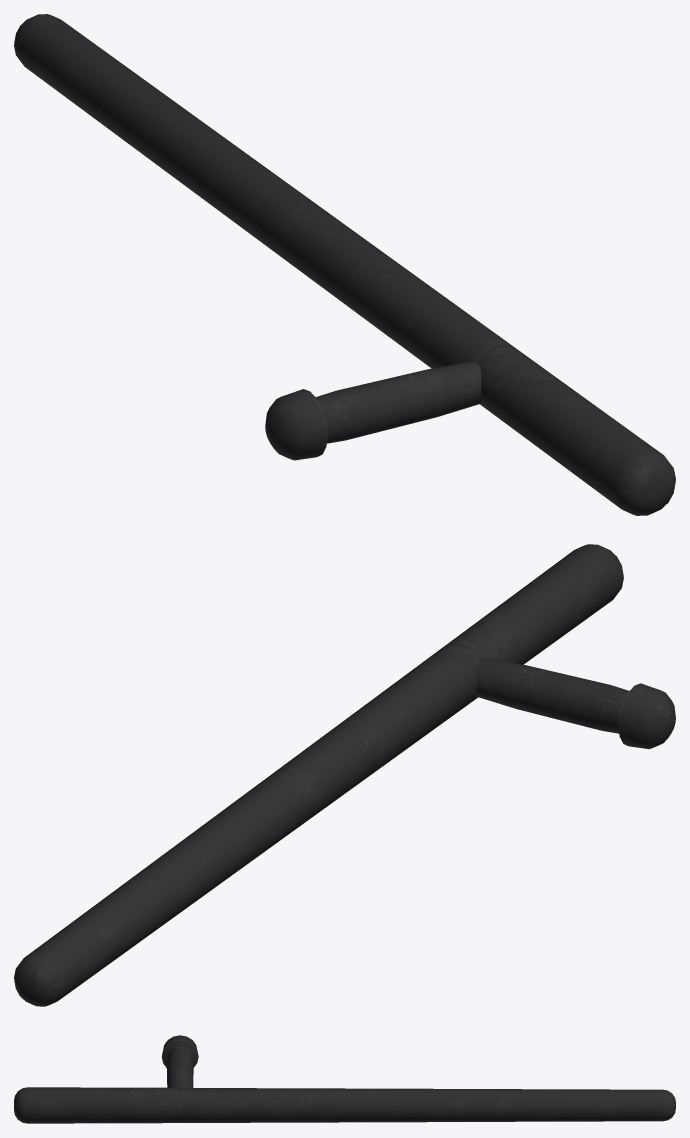
File: baton.glb
3 views of the same model, one above another, from view 1: azimuth 30°, elevation 25°; view 2: azimuth 150°, elevation 25°; view 3: azimuth 270°, elevation 25° (orthographic). The views are drawn at different scales.
Parts seen in each view (by area): view 1: Baton; view 2: Baton; view 3: Baton.
Boxes of the visible parts, <box> form: Baton: <box>14,14,675,515</box>; Baton: <box>14,544,675,1006</box>; Baton: <box>14,1035,675,1123</box>.
Size of the model in its own units: 0.119 by 0.028 by 0.4999.
Materials: 1 (1 with a texture image).
